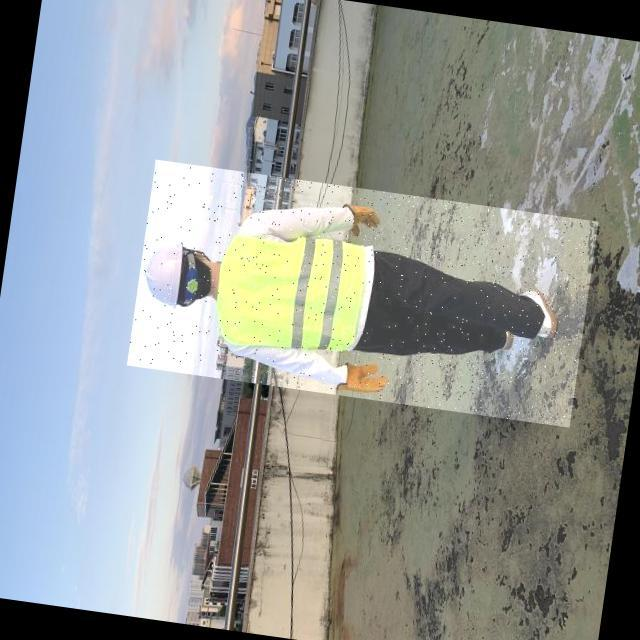Gloves: (343, 360, 394, 394), (345, 203, 385, 236)
Helmet: (139, 235, 192, 313)
Person: (130, 196, 582, 398)
Safety Boot: (519, 282, 572, 328)
Safety Vest: (212, 222, 376, 365)
